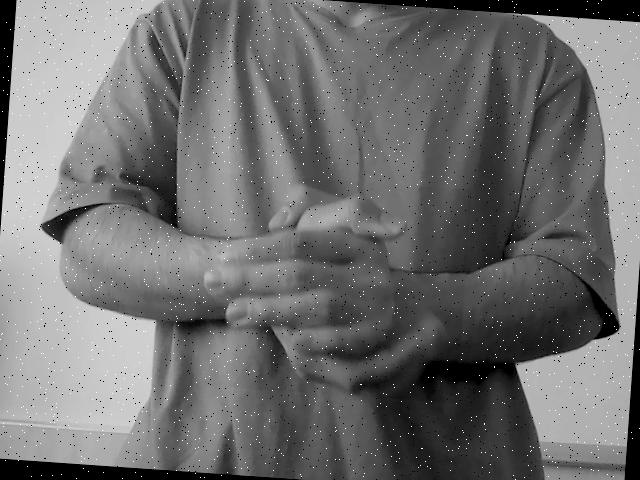friend: (197, 178, 461, 398)
